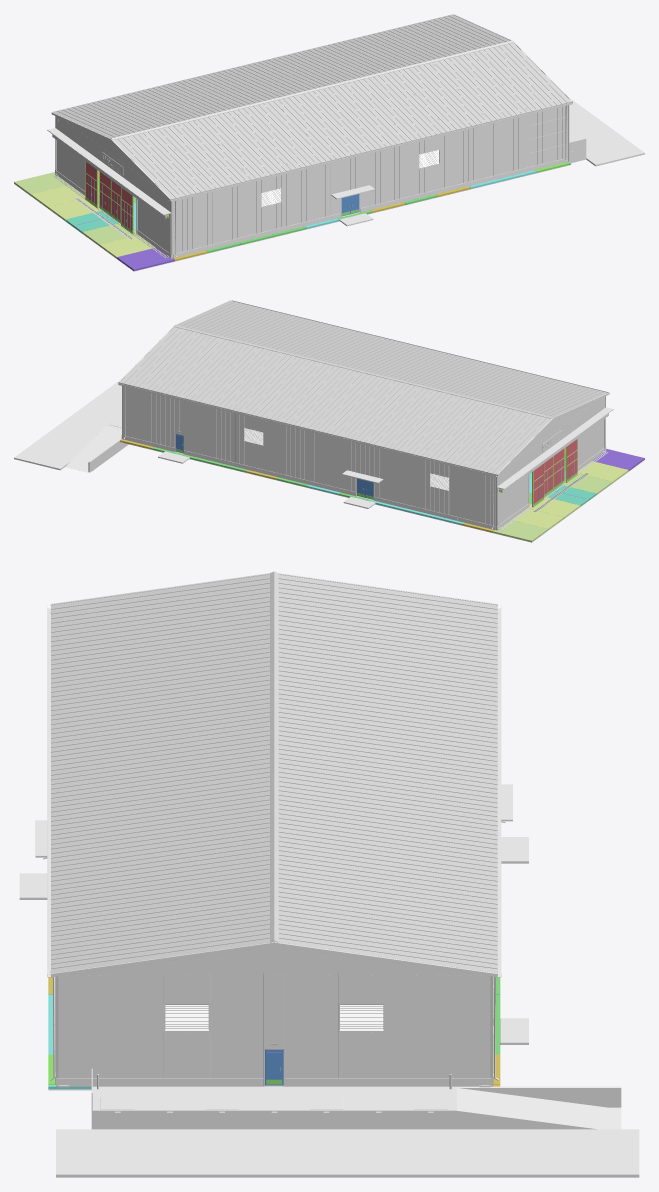
The model's file is HG_DEPOT_01_texture_kit.fbx.
3 views of the same model, one above another, from view 1: azimuth 30°, elevation 25°; view 2: azimuth 150°, elevation 25°; view 3: azimuth 270°, elevation 25° (orthographic). The views are drawn at different scales.
Visible parts, largest first — view 1: SM_MB01_HG_StandingSeams_bfd50, SM_MB01_HG_Floor_EXPOSED_bfd50, SM_MB01_HG_RoofSkin_09_+1_bfd50, SM_MB01_HG_RoofSkin_00_+1_bfd50, SM_MB01_HG_RoofSkin_01_+1_bfd50, SM_MB01_HG_RoofSkin_02_+1_bfd50, SM_MB01_HG_RoofSkin_08_+1_bfd50, SM_MB01_HG_RoofSkin_06_+1_bfd50, SM_MB01_HG_RoofSkin_07_+1_bfd50, SM_MB01_HG_RoofSkin_03_+1_bfd50, SM_MB01_HG_RoofSkin_04_+1_bfd50, SM_MB01_HG_RoofSkin_05_+1_bfd50 (+37 smaller); view 2: SM_MB01_HG_StandingSeams_bfd50, SM_MB01_HG_Floor_EXPOSED_bfd50, SM_MB01_HG_DockYard_bfd50, SM_MB01_HG_RoofSkin_09_-1_bfd50, SM_MB01_HG_RoofSkin_00_-1_bfd50, SM_MB01_HG_RoofSkin_02_-1_bfd50, SM_MB01_HG_RoofSkin_06_-1_bfd50, SM_MB01_HG_RoofSkin_07_-1_bfd50, SM_MB01_HG_RoofSkin_01_-1_bfd50, SM_MB01_HG_FrontPockets_bfd50, SM_MB01_HG_RoofSkin_08_-1_bfd50, SM_MB01_HG_RoofSkin_03_-1_bfd50 (+36 smaller); view 3: SM_MB01_HG_StandingSeams_bfd50, SM_MB01_HG_DockYard_bfd50, SM_MB01_HG_DockPlatform_bfd50, SM_MB01_HG_REAR_00__Wall_bfd50, SM_MB01_HG_REAR_04__Wall_bfd50, SM_MB01_HG_REAR_02__Wall_bfd50, SM_MB01_HG_RoofSkin_00_-1_bfd50, SM_MB01_HG_RoofSkin_00_+1_bfd50, SM_MB01_HG_RoofSkin_09_-1_bfd50, SM_MB01_HG_RoofSkin_09_+1_bfd50, SM_MB01_HG_REAR_01__Wall_bfd50, SM_MB01_HG_REAR_03__Wall_bfd50 (+26 smaller).
Part boxes in pixels (bbox=[...]): SM_MB01_HG_StandingSeams_bfd50: bbox=[53, 15, 571, 198]; SM_MB01_HG_Floor_EXPOSED_bfd50: bbox=[14, 172, 174, 270]; SM_MB01_HG_RoofSkin_09_+1_bfd50: bbox=[471, 42, 571, 112]; SM_MB01_HG_RoofSkin_00_+1_bfd50: bbox=[113, 130, 213, 199]; SM_MB01_HG_RoofSkin_01_+1_bfd50: bbox=[156, 120, 253, 189]; SM_MB01_HG_RoofSkin_02_+1_bfd50: bbox=[195, 110, 292, 179]; SM_MB01_HG_RoofSkin_08_+1_bfd50: bbox=[432, 53, 529, 122]; SM_MB01_HG_RoofSkin_06_+1_bfd50: bbox=[353, 72, 450, 141]; SM_MB01_HG_RoofSkin_07_+1_bfd50: bbox=[392, 62, 489, 131]; SM_MB01_HG_RoofSkin_03_+1_bfd50: bbox=[235, 101, 331, 170]; SM_MB01_HG_RoofSkin_04_+1_bfd50: bbox=[274, 91, 371, 160]; SM_MB01_HG_RoofSkin_05_+1_bfd50: bbox=[314, 82, 410, 150]; SM_MB01_HG_StandingSeams_bfd50: bbox=[120, 300, 606, 473]; SM_MB01_HG_Floor_EXPOSED_bfd50: bbox=[493, 449, 644, 542]; SM_MB01_HG_DockYard_bfd50: bbox=[14, 379, 121, 470]; SM_MB01_HG_RoofSkin_09_-1_bfd50: bbox=[119, 327, 213, 392]; SM_MB01_HG_RoofSkin_00_-1_bfd50: bbox=[456, 409, 550, 474]; SM_MB01_HG_RoofSkin_02_-1_bfd50: bbox=[382, 391, 474, 456]; SM_MB01_HG_RoofSkin_06_-1_bfd50: bbox=[234, 355, 325, 419]; SM_MB01_HG_RoofSkin_07_-1_bfd50: bbox=[196, 346, 288, 410]; SM_MB01_HG_RoofSkin_01_-1_bfd50: bbox=[419, 400, 511, 465]; SM_MB01_HG_FrontPockets_bfd50: bbox=[495, 396, 605, 529]; SM_MB01_HG_RoofSkin_08_-1_bfd50: bbox=[159, 336, 251, 401]; SM_MB01_HG_RoofSkin_03_-1_bfd50: bbox=[345, 382, 436, 446]; SM_MB01_HG_StandingSeams_bfd50: bbox=[51, 573, 497, 973]; SM_MB01_HG_DockYard_bfd50: bbox=[56, 1129, 639, 1177]; SM_MB01_HG_DockPlatform_bfd50: bbox=[91, 1086, 456, 1129]; SM_MB01_HG_REAR_00__Wall_bfd50: bbox=[405, 973, 490, 1078]; SM_MB01_HG_REAR_04__Wall_bfd50: bbox=[58, 973, 143, 1078]; SM_MB01_HG_REAR_02__Wall_bfd50: bbox=[230, 973, 317, 1078]; SM_MB01_HG_RoofSkin_00_-1_bfd50: bbox=[278, 574, 497, 644]; SM_MB01_HG_RoofSkin_00_+1_bfd50: bbox=[51, 574, 269, 644]; SM_MB01_HG_RoofSkin_09_-1_bfd50: bbox=[274, 903, 497, 972]; SM_MB01_HG_RoofSkin_09_+1_bfd50: bbox=[51, 903, 274, 972]; SM_MB01_HG_REAR_01__Wall_bfd50: bbox=[318, 973, 405, 1078]; SM_MB01_HG_REAR_03__Wall_bfd50: bbox=[143, 973, 230, 1078].
Bounding box in the file's own units: 6244 × 1044 × 3467.
